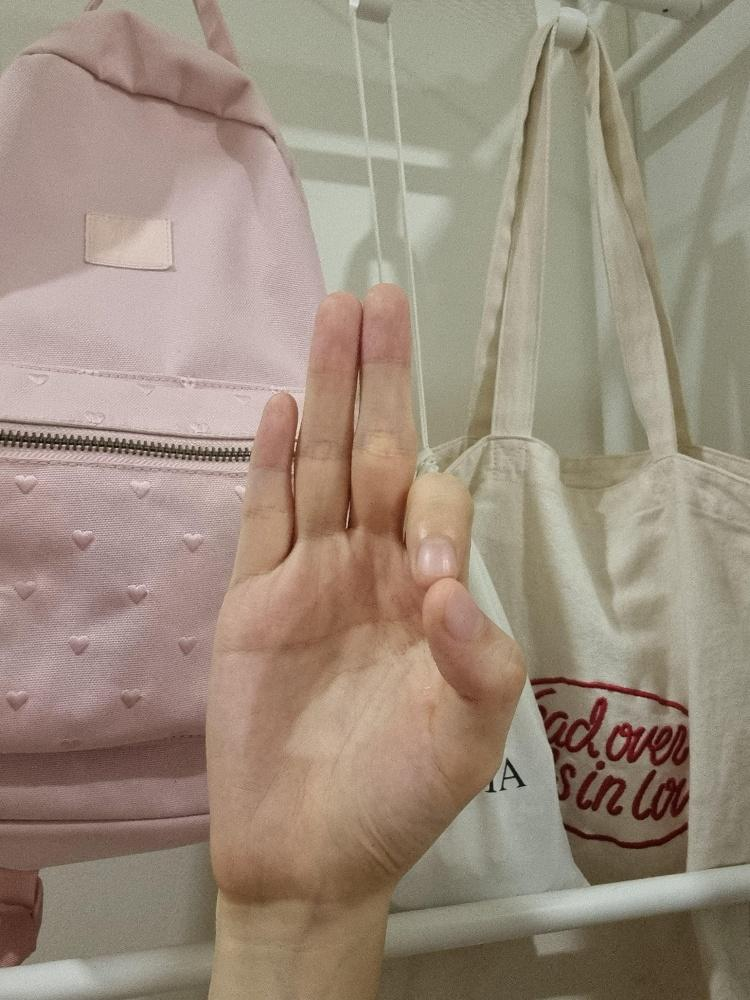f: (201, 279, 529, 914)
